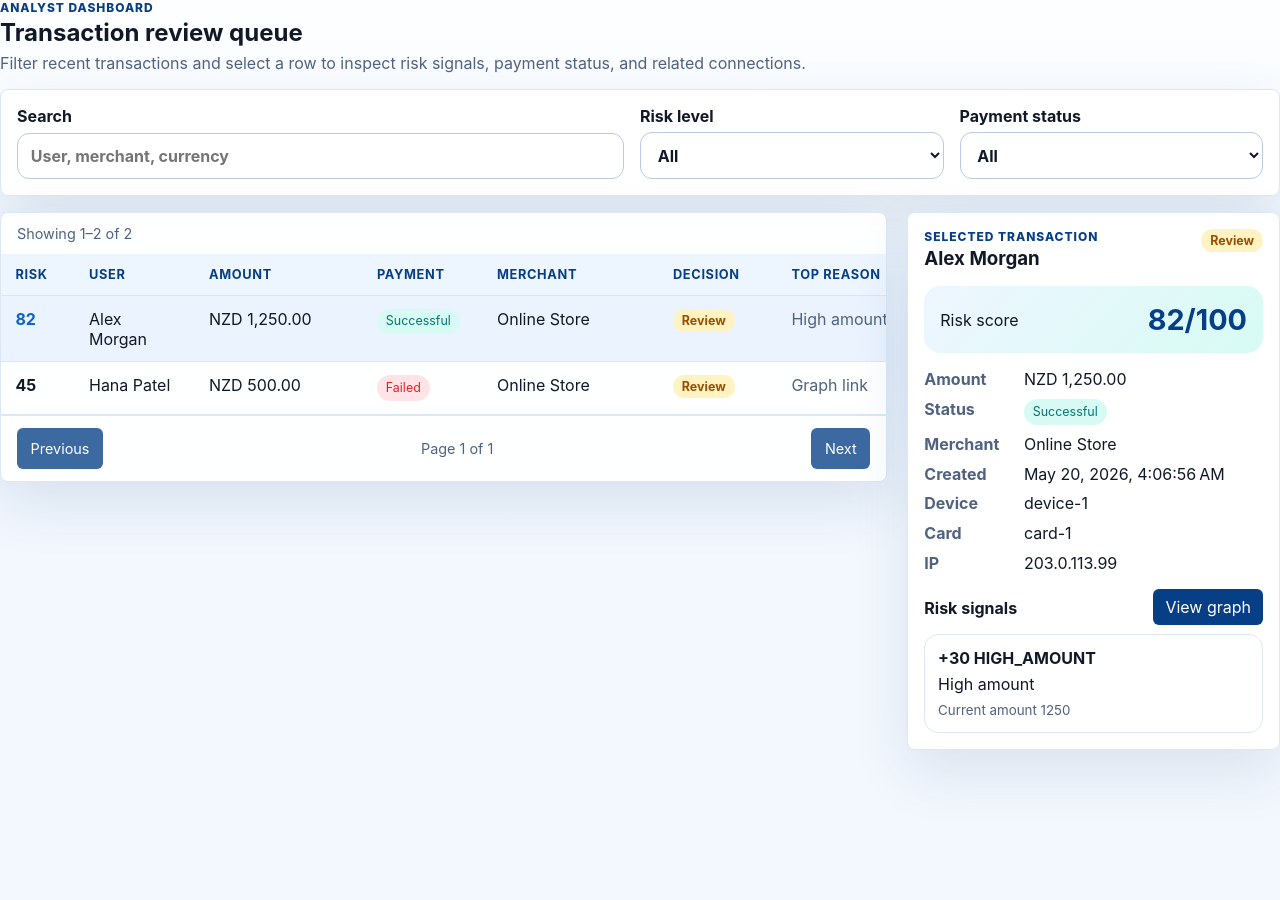
ReviewQueueComponent › opens a large graph dialog from the selected transaction panel
The width and height of the screenshot is (1280, 900).
Step 1. Click the row with class "transaction-row" that starts with "Hana Patel" → (517, 388), box [1,362,1033,414]
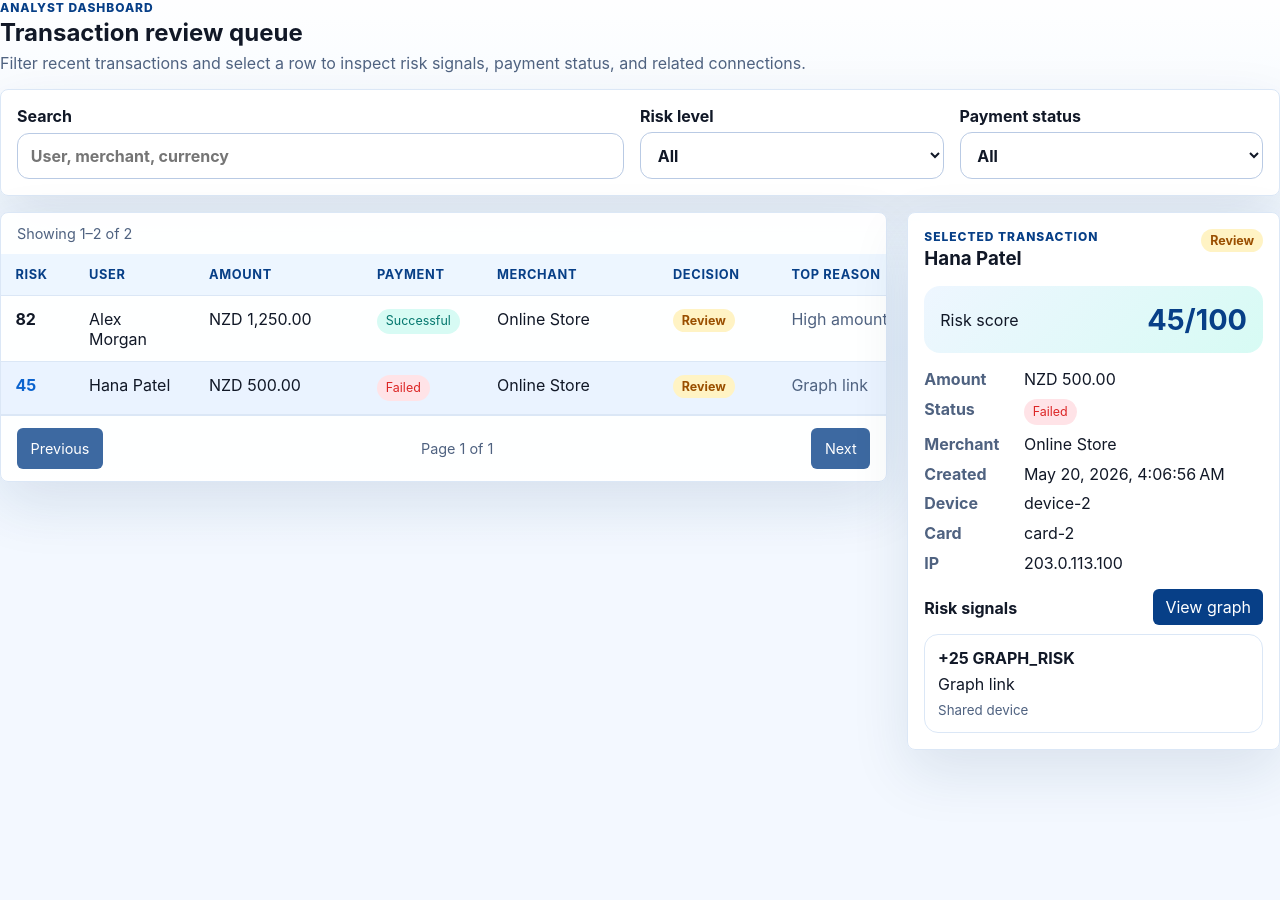
Step 2. Click the button with class "graph-open" → (1208, 606), box [1153,588,1263,624]
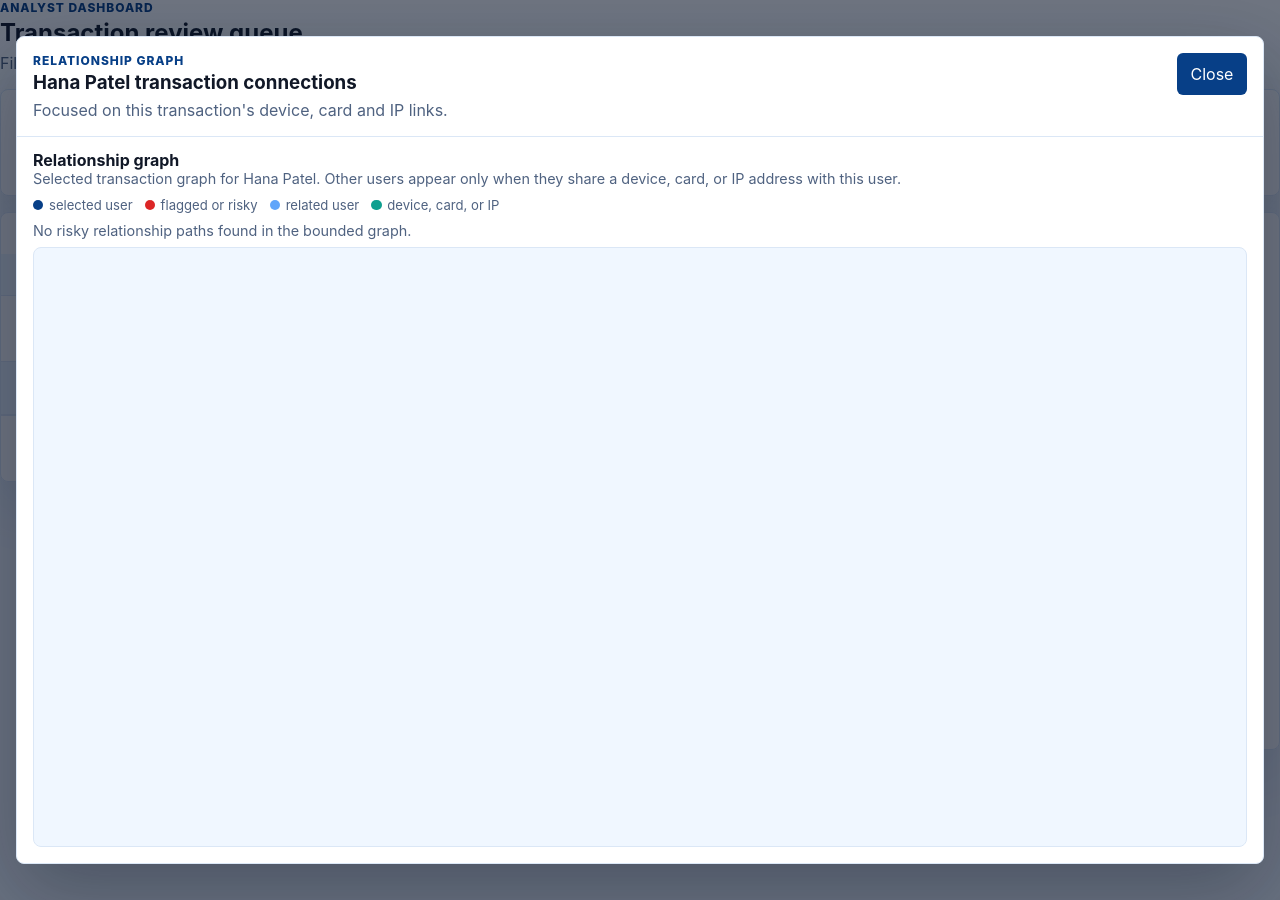
Now the dialog is shown
